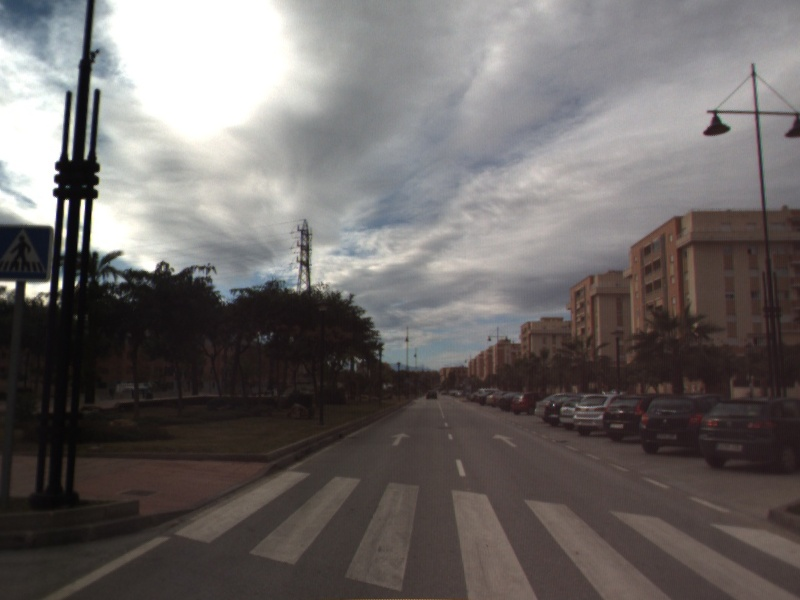STRAIGHT: (490, 432, 519, 449), (389, 430, 413, 448)
